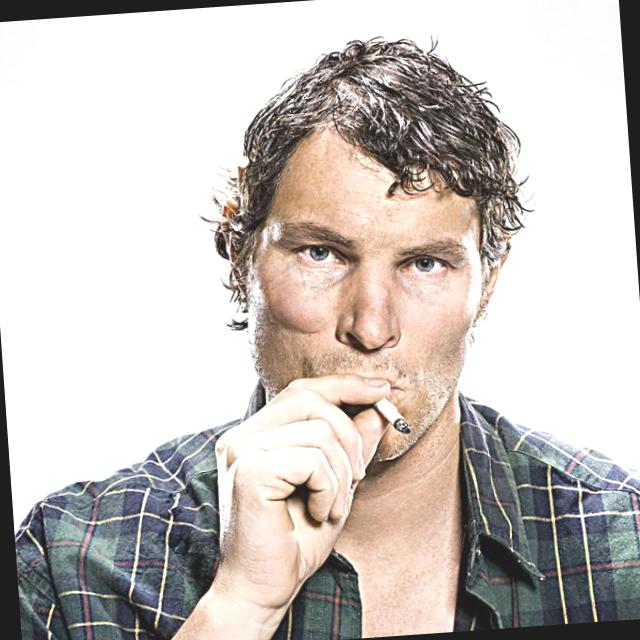cigarette: (362, 380, 419, 440)
